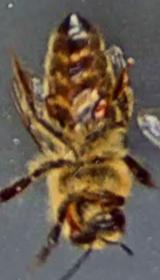varroa_mite: (80, 89, 121, 129)
